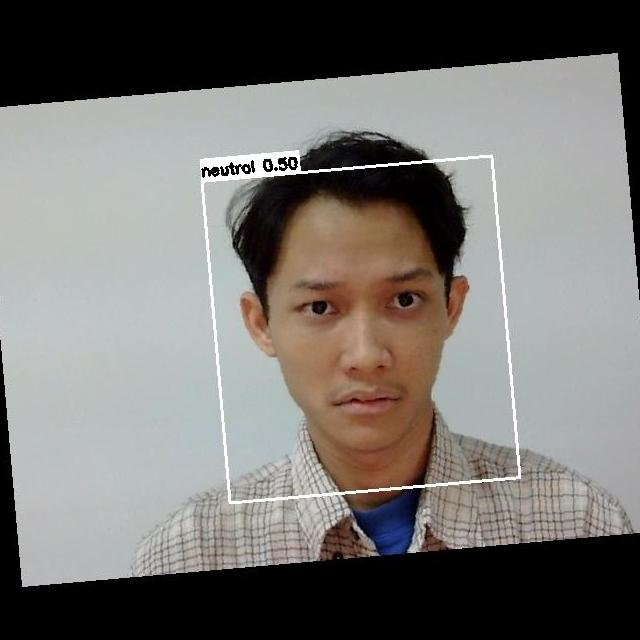Fear: (257, 248, 453, 422)
